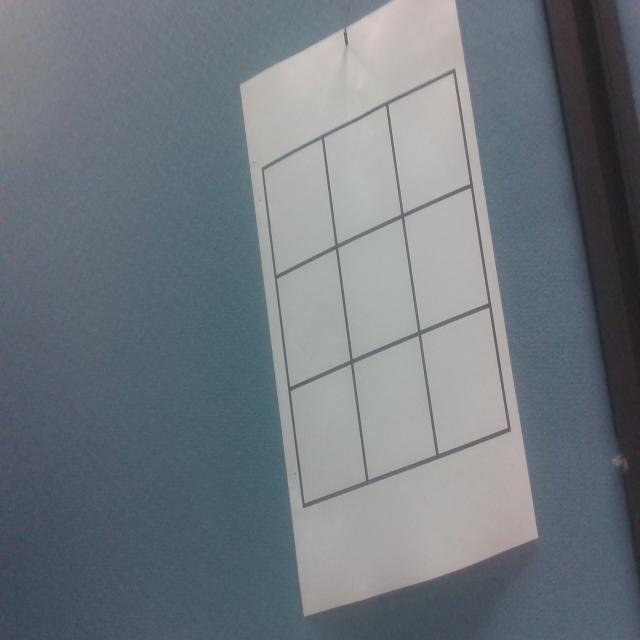table: (236, 64, 522, 520)
